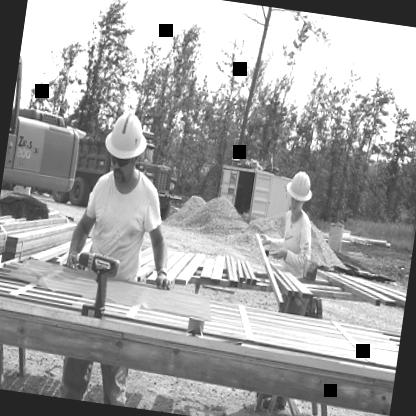helmet: (94, 102, 156, 182), (280, 162, 318, 219)
